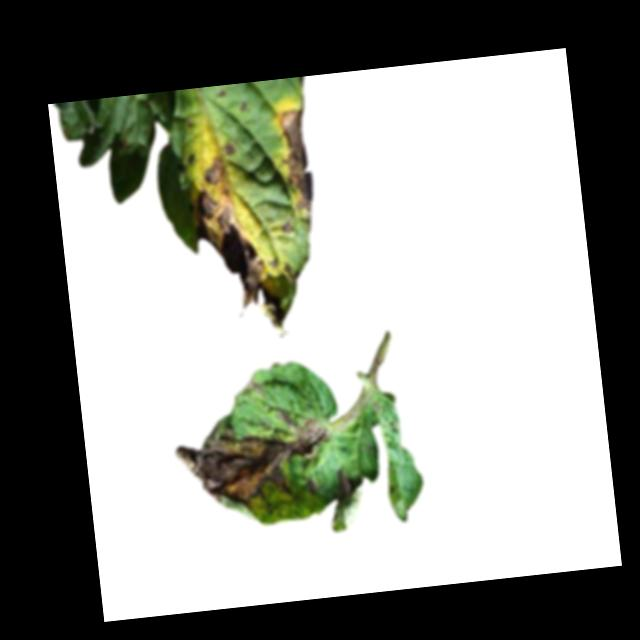Early_blight: (168, 406, 336, 512), (187, 181, 286, 346), (277, 108, 314, 213), (199, 157, 227, 188), (334, 468, 356, 506), (244, 375, 263, 400), (281, 262, 300, 286), (222, 142, 236, 156), (184, 153, 198, 167), (281, 221, 293, 236)
